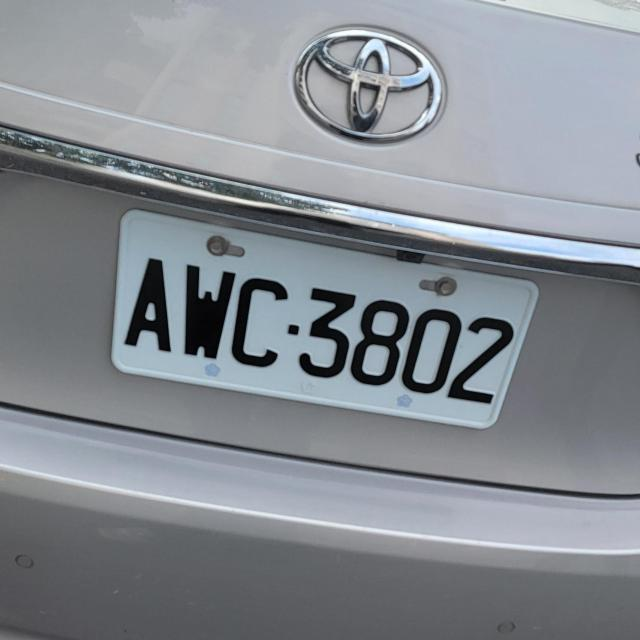W: (103, 207, 542, 436)
